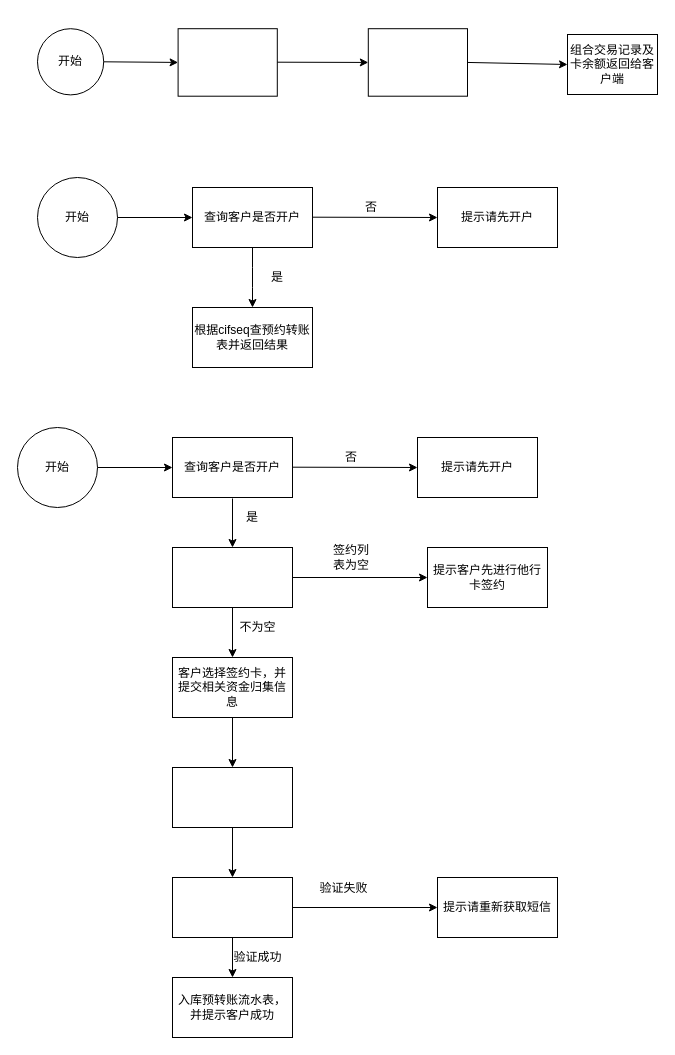
This 675x1055 diagram has some shape labels left out. The centre of each missing label's shape, as x and y in pixels:
"客户提交短信进行验证" belongs at point (232, 907).
"客户进入确认页，并点击预约转账申请按钮获取短信，申请预约转账" belongs at point (232, 797).
"查询客户支付签约列表" belongs at point (232, 577).
"根据客户他卡号发router查询他行卡卡余额" belongs at point (417, 62).
"根据客户他行卡号和查询条件查询交易记录" belongs at point (227, 62).
